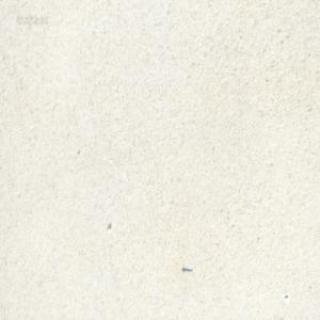Nailtrack_idkeyframe: (180, 262, 191, 271)
